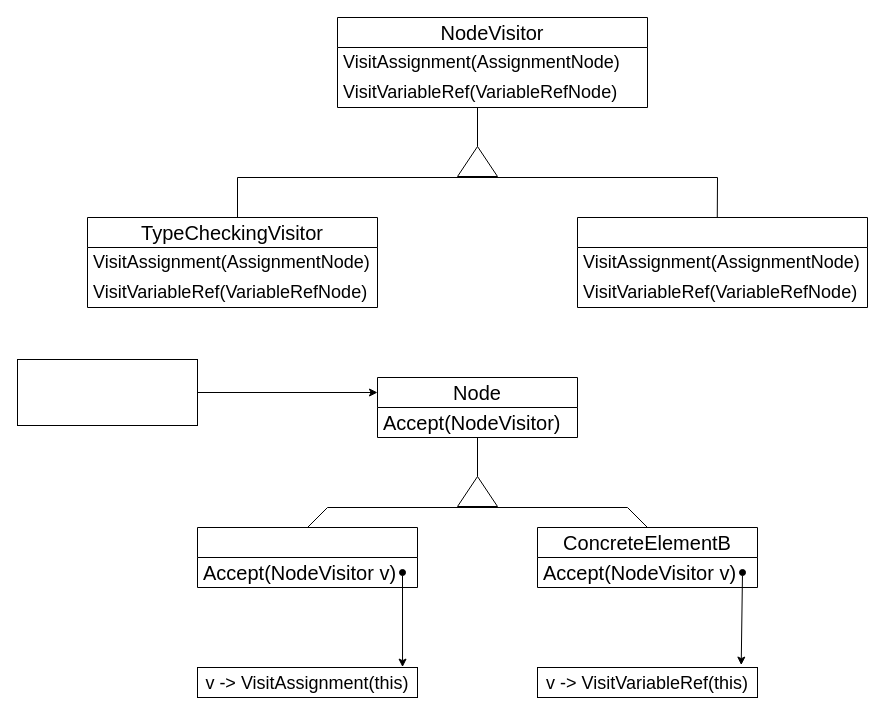
This 885x715 diagram has some shape labels left out. The box of each missing label's shape, as (x1, y1, x2, y2) in pixels:
AssignmentNode: (196, 526, 418, 588)
CodeGeneratingVisitor: (576, 216, 868, 308)
Program: (16, 358, 198, 426)
